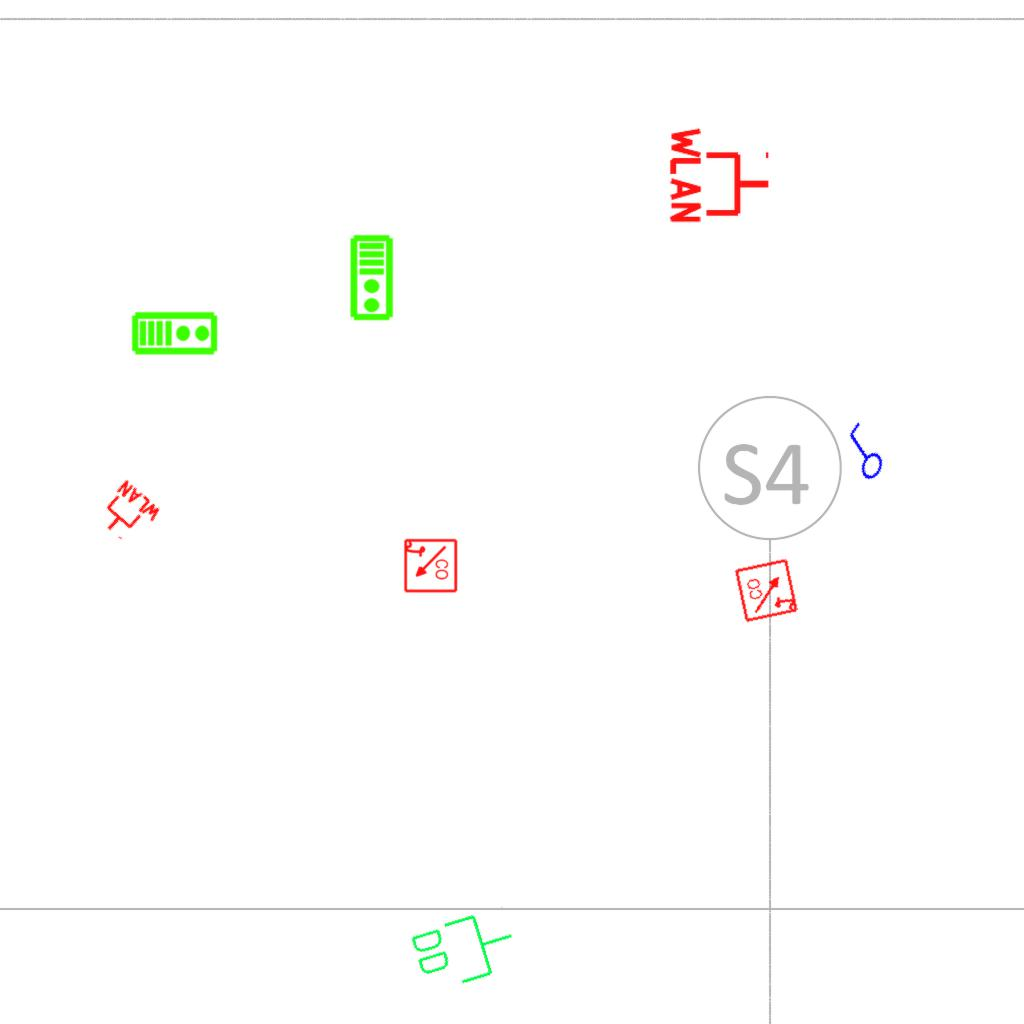Ausschalter: (830, 418, 896, 488)
Datenanschluss_zweifach: (405, 901, 524, 998)
Gegensprechanlage_mit_Video: (349, 234, 396, 322), (131, 309, 219, 356)
ROA_Rauchmelder_optisch_mit_Signalgeber_(Sockelsirene): (733, 556, 801, 624), (402, 538, 458, 594)
WLAN: (668, 123, 773, 227), (91, 477, 165, 551)
